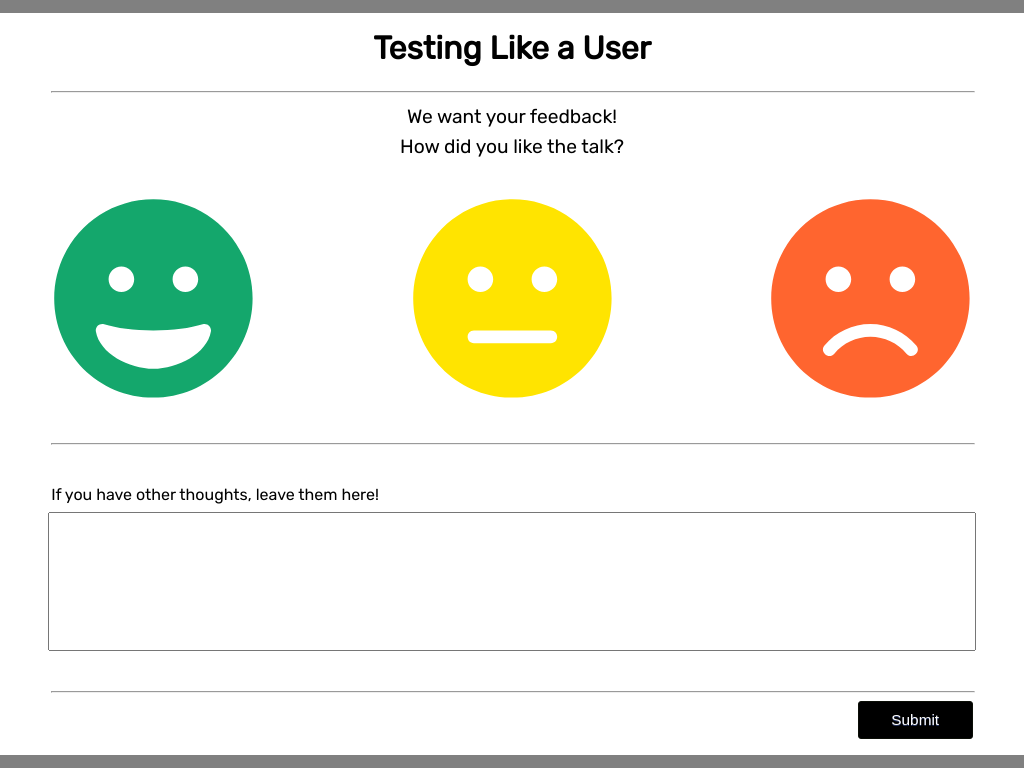
Test: Does not submit unless a reaction has been selected
Click the button "Submit" at (915, 720), box [858,701,973,739]
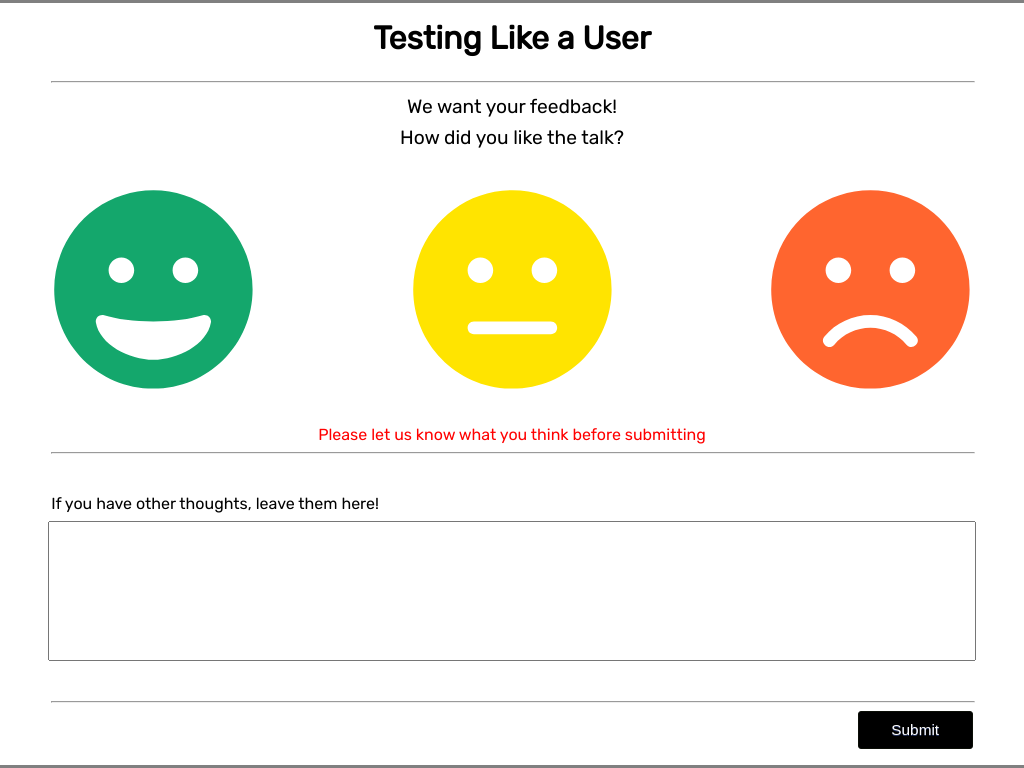
expect the text "Please let us know what you think before submitting" is shown: met, box [318,425,706,444]
